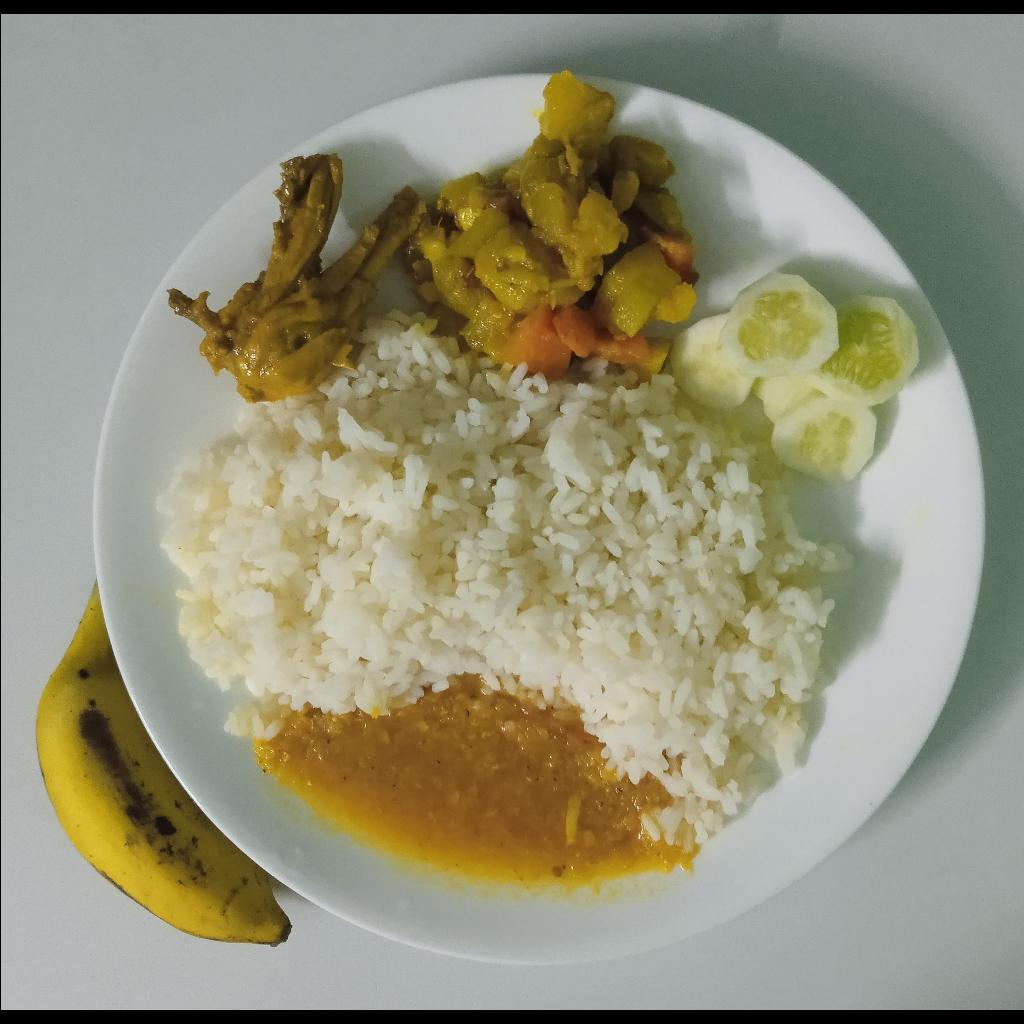banana: (33, 578, 294, 949)
chicken: (168, 154, 426, 402)
cucumber: (671, 270, 920, 486)
daal: (257, 675, 698, 880)
rice: (155, 312, 855, 845)
vegetable: (411, 74, 700, 376)
